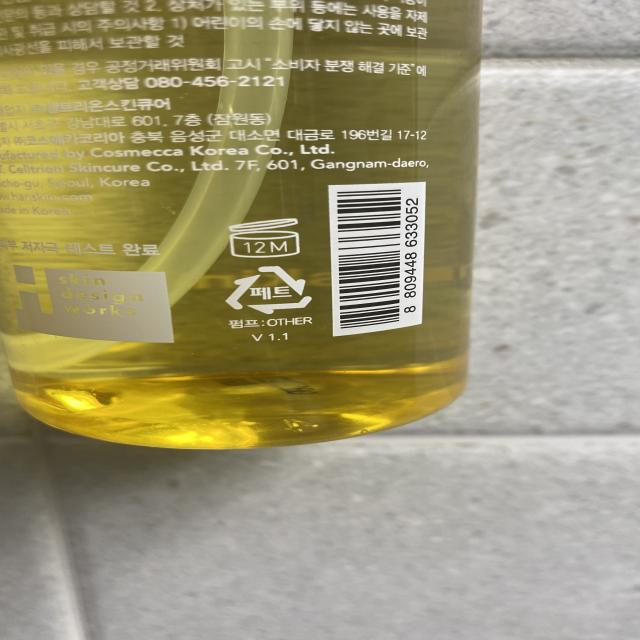PET: (215, 259, 316, 320)
